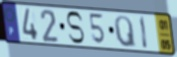2: (40, 8, 61, 45)
4: (22, 7, 40, 42)
5: (88, 12, 107, 47)
I: (139, 14, 149, 51)
Q: (113, 15, 138, 50)
S: (65, 10, 86, 45)
